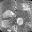people: (3, 10, 16, 19), (1, 19, 11, 28), (16, 17, 23, 25)
